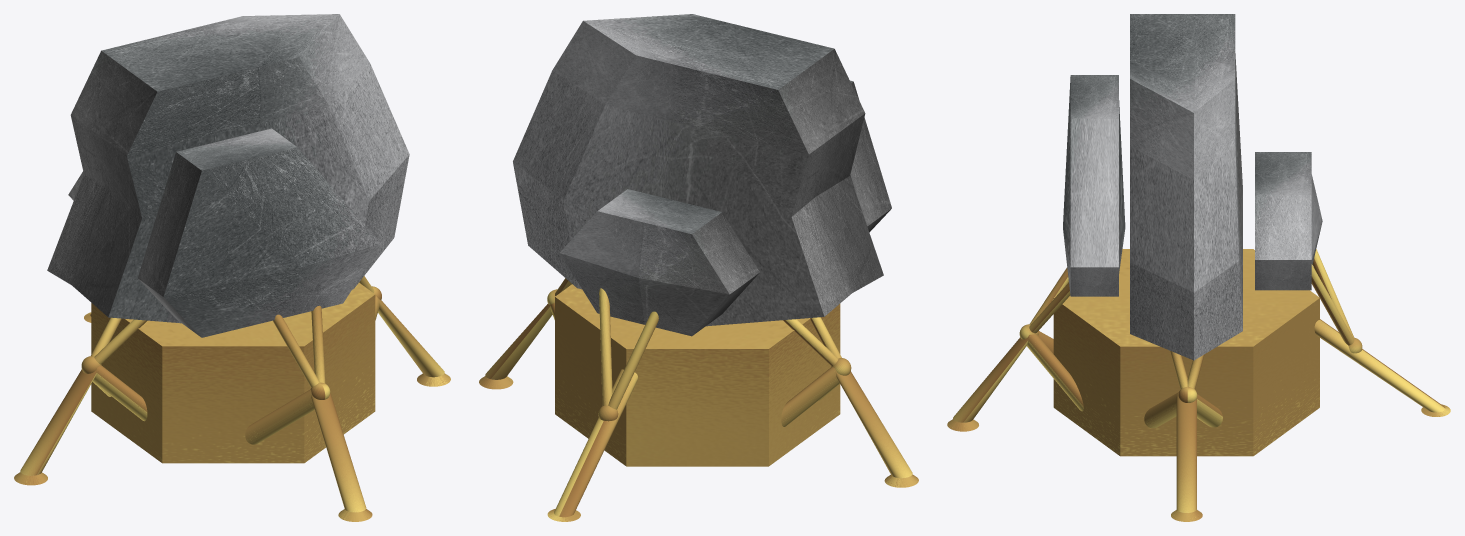
The model's file is lunarLander.fbx.
3 views of the same model, side by side, from view 1: azimuth 30°, elevation 25°; view 2: azimuth 150°, elevation 25°; view 3: azimuth 270°, elevation 25° (orthographic). The views are drawn at different scales.
Parts seen in each view (by area): view 1: Cylinder.002; view 2: Cylinder.002; view 3: Cylinder.002.
Boxes of the visible parts, <box> form: Cylinder.002: <box>14,14,450,521</box>; Cylinder.002: <box>479,14,918,521</box>; Cylinder.002: <box>947,14,1450,521</box>.
Size of the model in its own units: 1937 by 1657 by 2080.
Materials: 2 (2 with a texture image).
